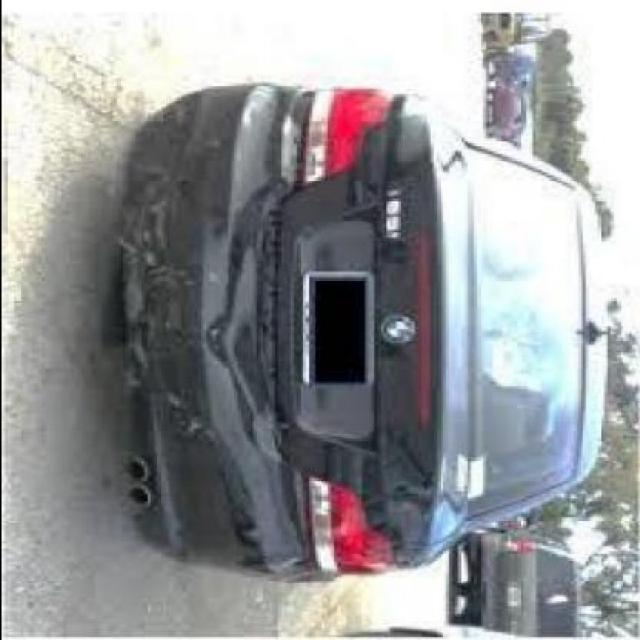damage: (122, 101, 216, 439), (202, 298, 279, 453)
